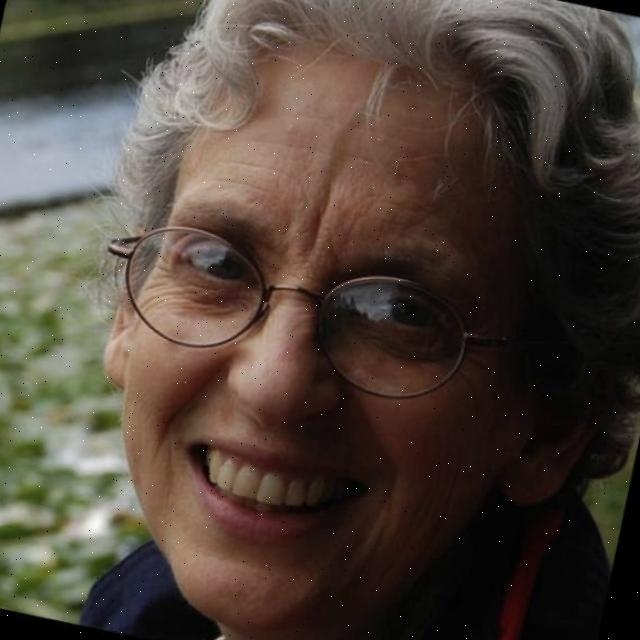puffy_eyes: (160, 265, 248, 314)
